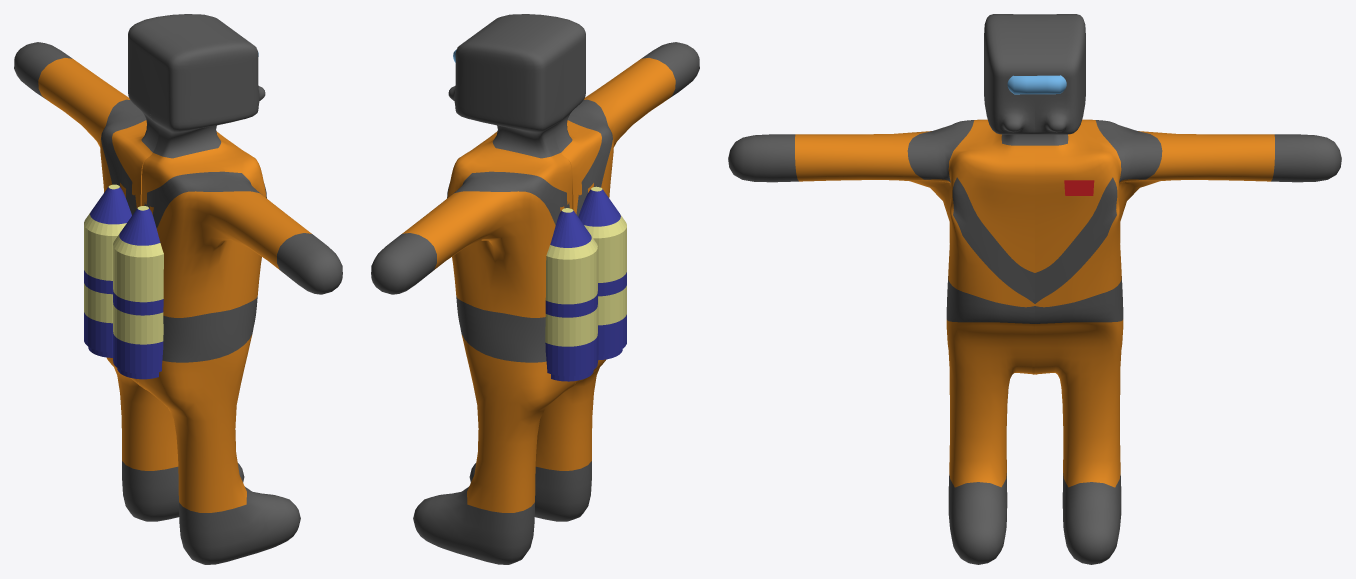
The model's file is lethal company penco.fbx.
3 renders of one model, left to right at view 1: azimuth 30°, elevation 25°; view 2: azimuth 150°, elevation 25°; view 3: azimuth 270°, elevation 25°, orthographic.
Parts seen in each view (by area): view 1: Cube, Cylinder.001; view 2: Cube, Cylinder.001; view 3: Cube, Cylinder.
Boxes of the visible parts, x1,y1,x2,y2 form: Cube: (14,14,342,564); Cylinder.001: (84,184,163,379); Cube: (371,14,699,564); Cylinder.001: (545,186,626,381); Cube: (728,14,1341,564); Cylinder: (1007,75,1066,94).
Bounding box in the file's own units: 634 × 1861 × 2027.
